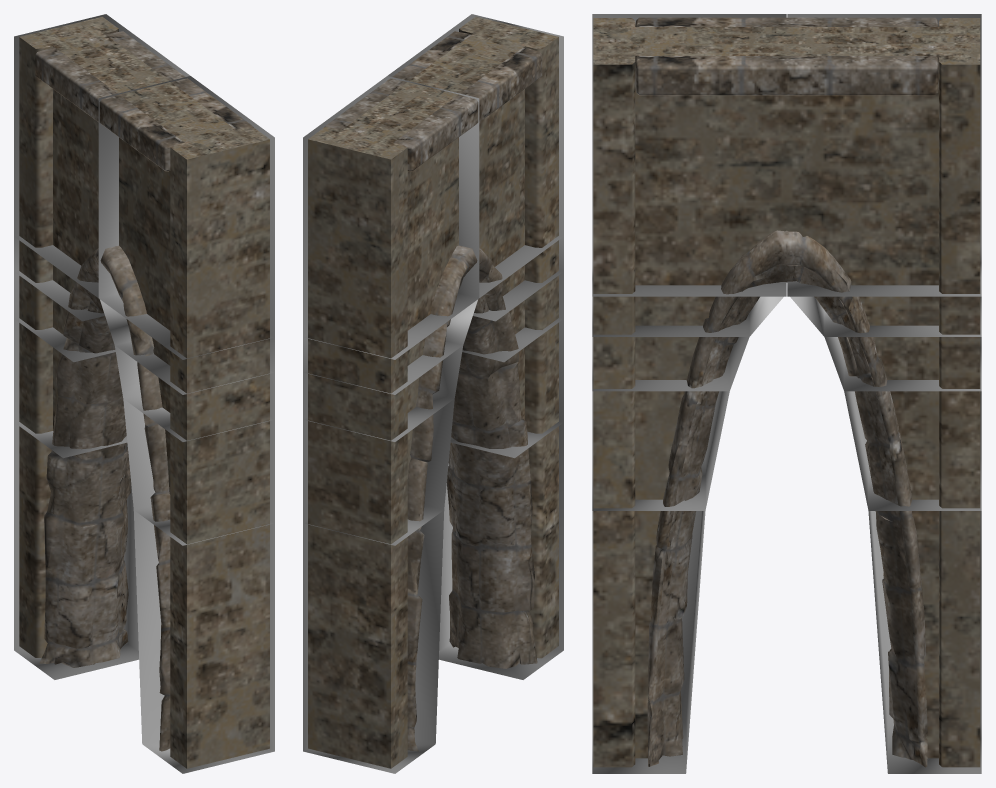
The model's file is SM_Modular_WallArch_02a.gltf.
3 views of the same model, side by side, from view 1: azimuth 30°, elevation 25°; view 2: azimuth 150°, elevation 25°; view 3: azimuth 270°, elevation 25° (orthographic). The views are drawn at different scales.
Parts seen in each view (by area): view 1: SM_Modular_WallArch_02a, SM_Modular_WallArch_02a_ConvexHulls; view 2: SM_Modular_WallArch_02a, SM_Modular_WallArch_02a_ConvexHulls; view 3: SM_Modular_WallArch_02a, SM_Modular_WallArch_02a_ConvexHulls.
Boxes of the visible parts, x1=… form: SM_Modular_WallArch_02a: x1=19, y1=16, x2=269, y2=768; SM_Modular_WallArch_02a_ConvexHulls: x1=14, y1=14, x2=274, y2=773; SM_Modular_WallArch_02a: x1=308, y1=16, x2=558, y2=768; SM_Modular_WallArch_02a_ConvexHulls: x1=303, y1=14, x2=563, y2=773; SM_Modular_WallArch_02a: x1=593, y1=17, x2=980, y2=767; SM_Modular_WallArch_02a_ConvexHulls: x1=592, y1=14, x2=981, y2=773.
Size of the model in its own units: 1.11 by 7.06 by 3.51.
3 materials, 2 textured.
